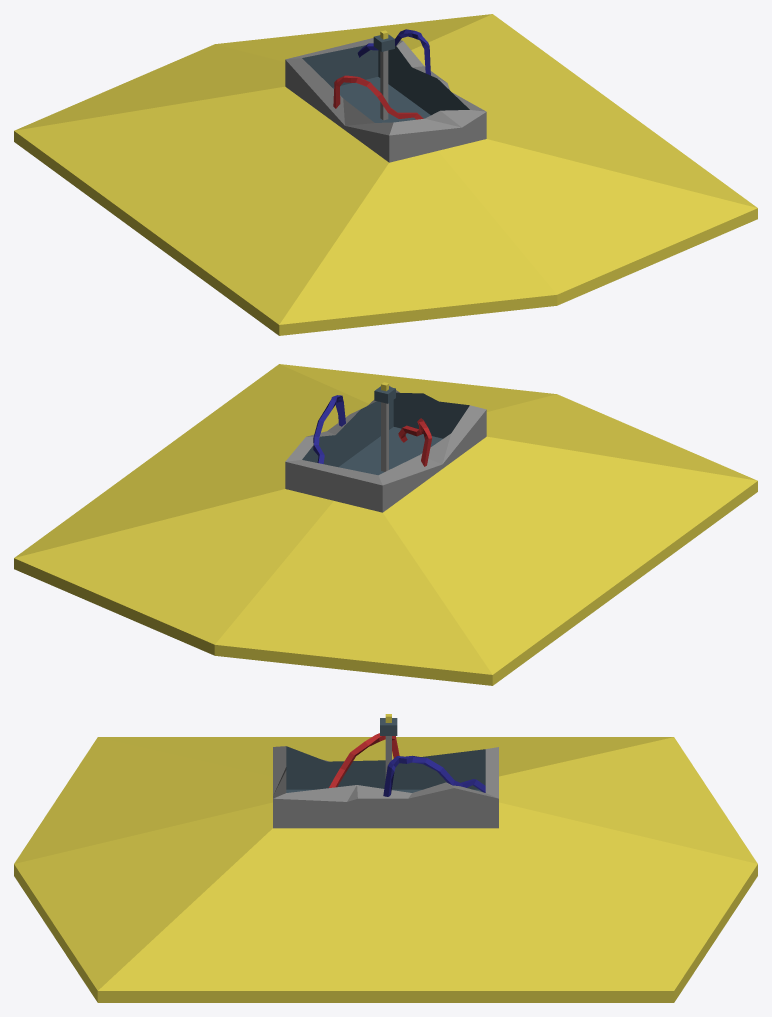
Rendered from turret_brokenbase.fbx.
The picture shows the model from 3 angles, top to bottom: view 1: azimuth 30°, elevation 25°; view 2: azimuth 150°, elevation 25°; view 3: azimuth 270°, elevation 25°; orthographic projection. The views are drawn at different scales.
Visible parts, largest first — view 1: turret_base; view 2: turret_base; view 3: turret_base.
Boxes of the visible parts, x1,y1,x2,y2 form: turret_base: (14, 14, 757, 335); turret_base: (14, 364, 757, 685); turret_base: (14, 714, 757, 1002).
Bounding box in the file's own units: 1.75 × 2.17 × 0.5151.
